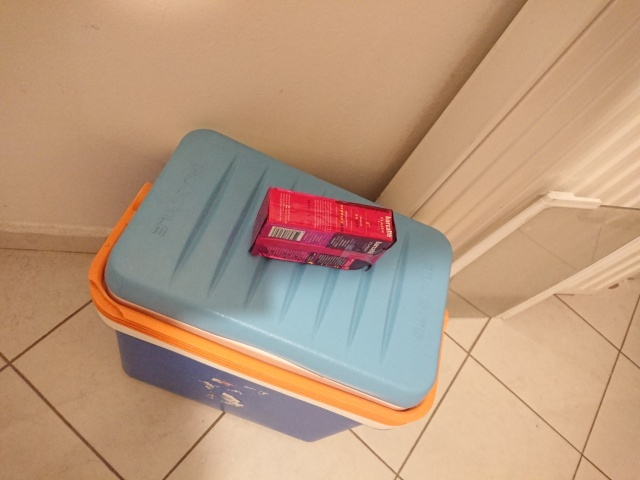Barcaffe Classic Original 225g: (246, 184, 399, 274)
